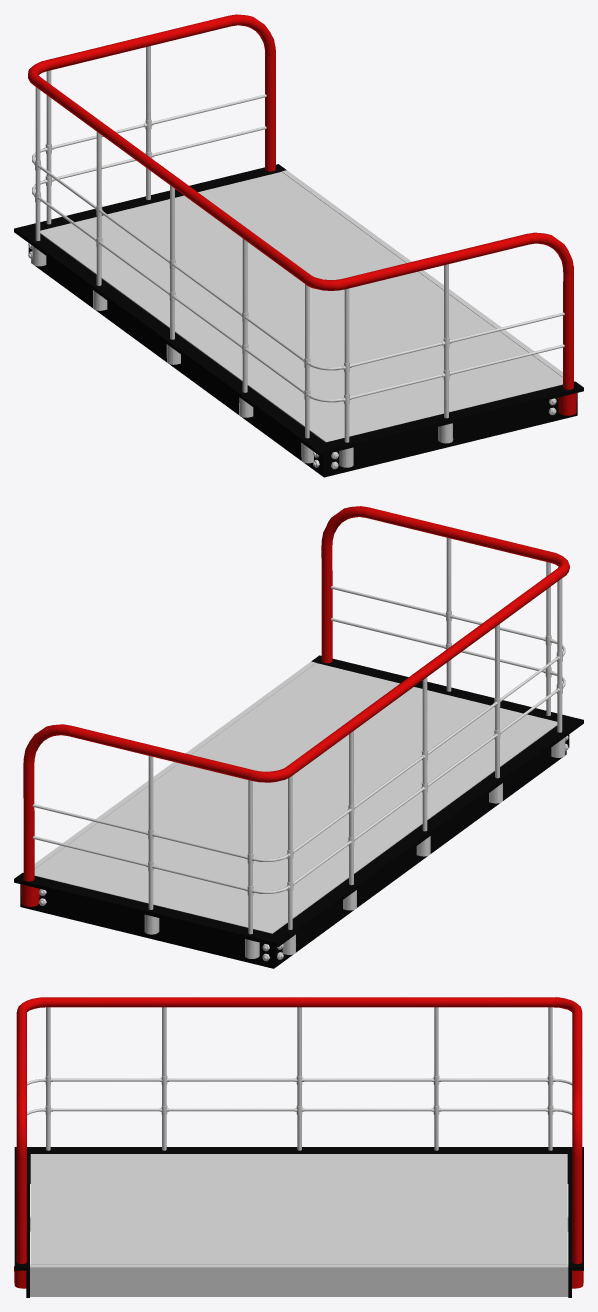
3 views of the same model, one above another, from view 1: azimuth 30°, elevation 25°; view 2: azimuth 150°, elevation 25°; view 3: azimuth 270°, elevation 25° (orthographic). The views are drawn at different scales.
Visible parts, largest first — view 1: Mesh; view 2: Mesh; view 3: Mesh.
Boxes of the visible parts, left/top/right/bottom form: Mesh: left=14, top=14, right=583, bottom=477; Mesh: left=14, top=506, right=583, bottom=968; Mesh: left=14, top=997, right=583, bottom=1297.
Size of the model in its own units: 2.12 by 1.5 by 4.24.
